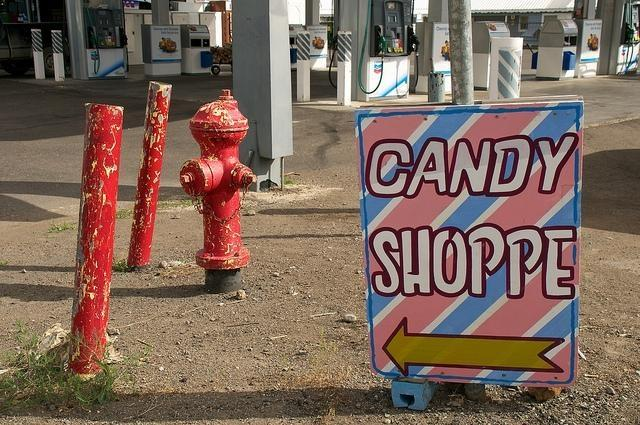car: (0, 24, 34, 76)
